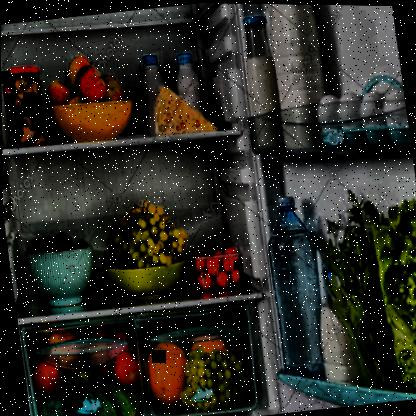apple: (73, 62, 107, 103), (64, 55, 92, 89), (42, 79, 72, 105)
cheese: (152, 85, 221, 138)
cucumber: (63, 369, 128, 415), (36, 394, 83, 416)
eggs: (337, 90, 363, 132), (358, 89, 386, 126), (381, 86, 407, 125), (316, 93, 341, 130)
grapes: (105, 200, 183, 270), (184, 347, 249, 412)
lettuce: (340, 203, 415, 392)
milk: (266, 3, 327, 112), (241, 13, 280, 109), (138, 53, 170, 131), (174, 50, 204, 110)
mushrooms: (9, 75, 47, 146)
orange: (142, 340, 187, 408)
tomato: (29, 354, 64, 398), (109, 350, 139, 390), (205, 254, 220, 274), (214, 268, 229, 288), (197, 271, 212, 289), (221, 244, 235, 260), (194, 253, 204, 268)
